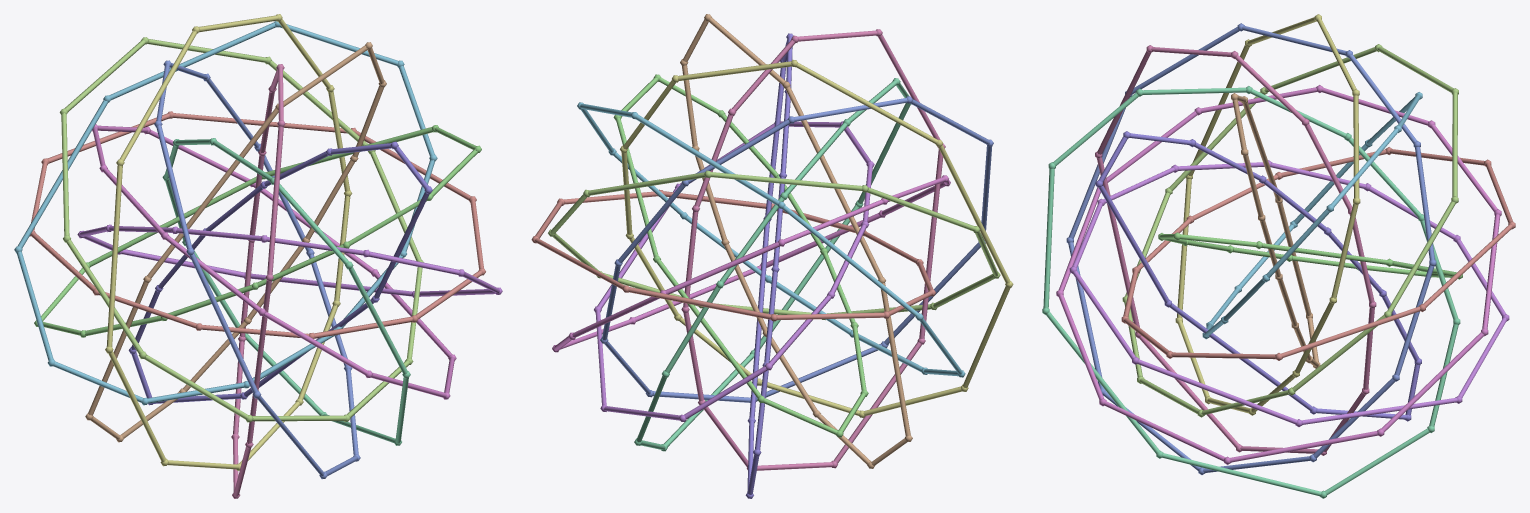
Rendered from example.gltf.
3 renders of one model, left to right at view 1: azimuth 30°, elevation 25°; view 2: azimuth 150°, elevation 25°; view 3: azimuth 270°, elevation 25°, orthographic.
Visible parts, largest first — view 1: hopf_decagons; view 2: hopf_decagons; view 3: hopf_decagons.
Part boxes in pixels (box(x1,y1,x2,y2)): hopf_decagons: box(14, 14, 502, 498); hopf_decagons: box(531, 14, 1013, 498); hopf_decagons: box(1042, 14, 1515, 498).
Bounding box in the file's own units: 2.14 × 2.16 × 2.12.
